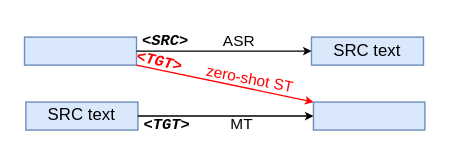
Some shapes in this 449 by 165 pixel diagram are drawn without their labels. The shapes that lost their labels are listed below. From the top down, each one's centre as x and y in pixels, then its label:
At point (79, 50): "SRC audio".
At point (368, 115): "TGT text".
